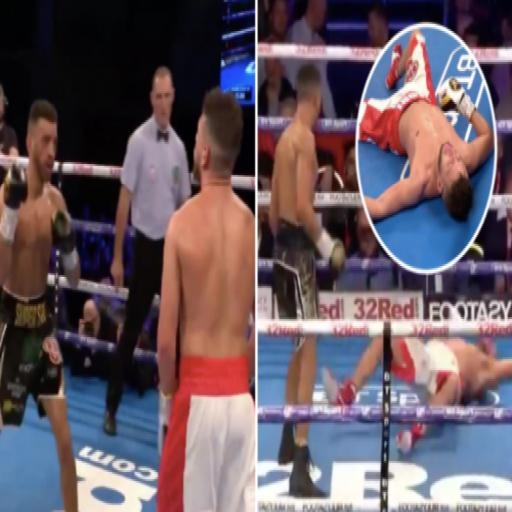boxing: (0, 82, 270, 512), (356, 27, 494, 224)
